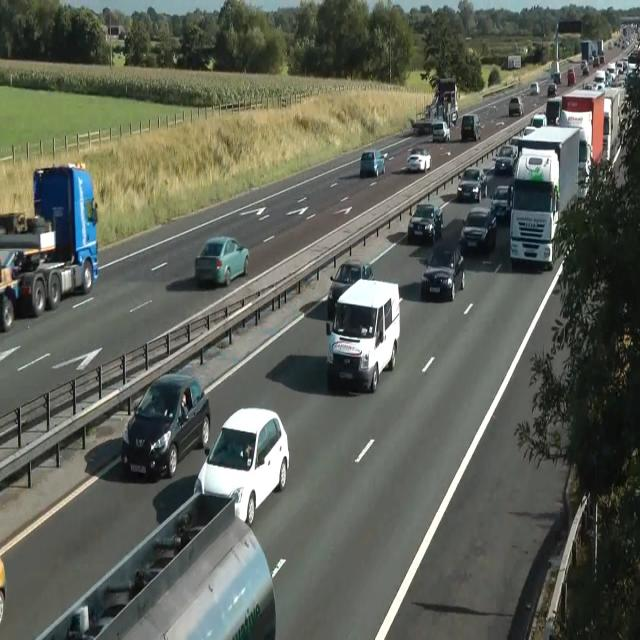bus: (193, 406, 289, 526), (194, 236, 250, 286), (327, 258, 374, 314), (457, 166, 485, 202), (490, 184, 512, 220), (359, 149, 385, 178), (494, 144, 518, 173), (405, 148, 431, 172), (522, 112, 548, 136), (0, 555, 6, 623), (432, 121, 450, 142), (508, 95, 524, 117), (531, 112, 547, 128), (567, 68, 575, 86), (450, 110, 458, 126), (530, 82, 540, 94), (548, 83, 556, 97), (581, 60, 589, 74)
jeep: (120, 372, 210, 480), (326, 277, 400, 393), (420, 243, 464, 301), (459, 205, 497, 252), (407, 201, 443, 243), (460, 113, 480, 140)
minibus: (36, 491, 276, 639), (0, 161, 98, 331), (508, 124, 582, 270), (558, 85, 622, 184), (431, 77, 458, 127), (580, 38, 604, 66), (501, 54, 521, 70), (550, 60, 561, 84)
